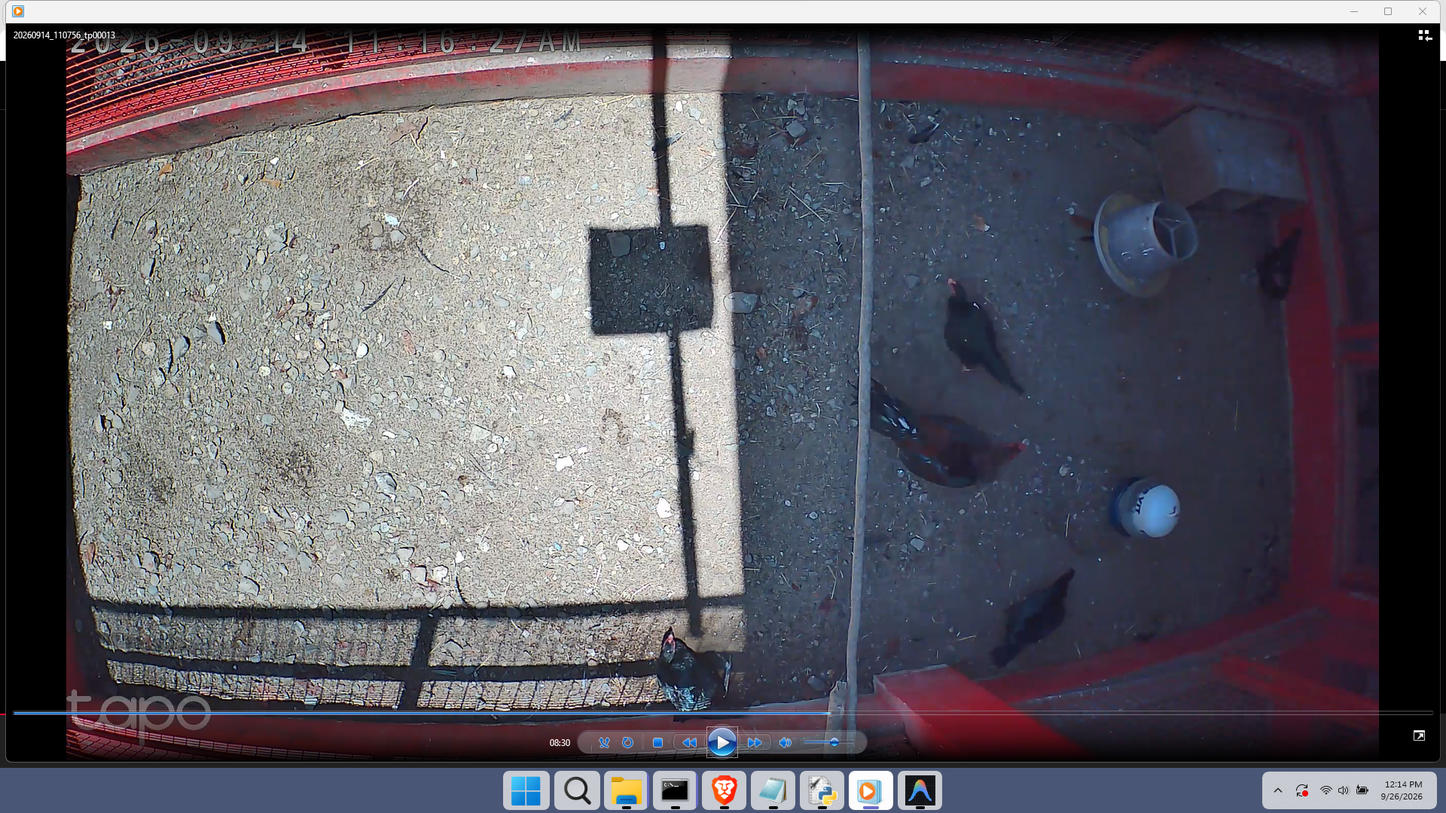Chicken: (942, 275, 1028, 396), (990, 564, 1076, 673), (646, 627, 734, 714), (1238, 220, 1306, 301)
Drinker: (1108, 473, 1184, 545)
Feeder: (1091, 189, 1199, 305)
Rooster: (842, 369, 1028, 491)
